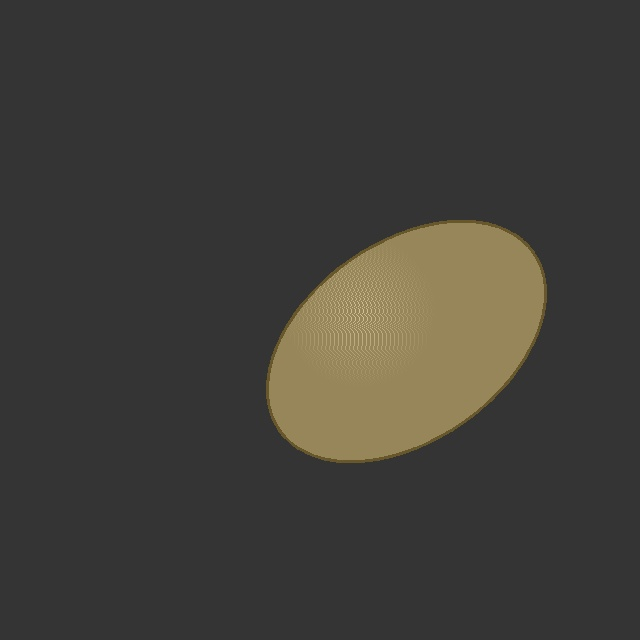lens: (268, 221, 544, 461)
